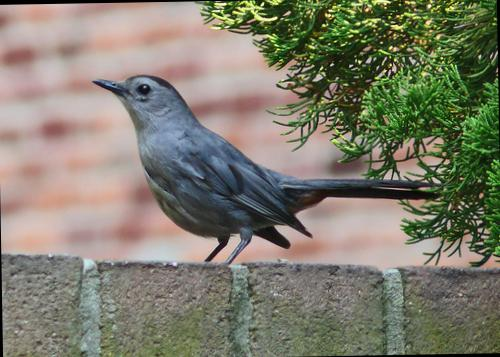bird: (83, 64, 448, 278)
